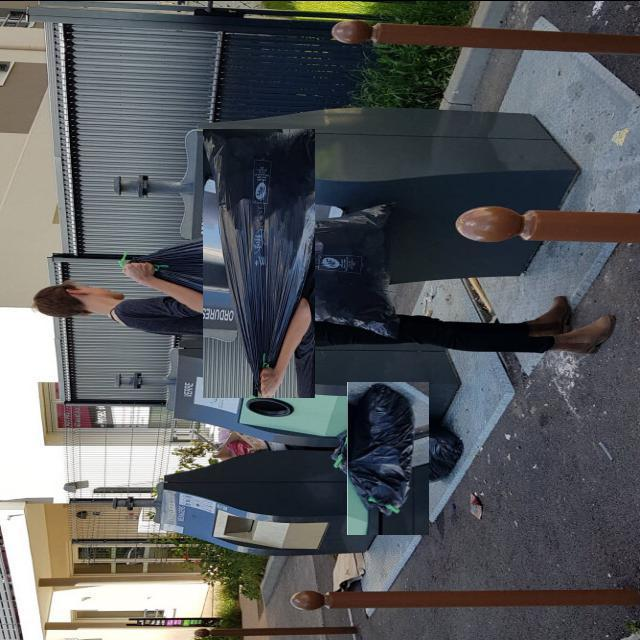Trashbag: (203, 128, 312, 384), (332, 382, 426, 518)
